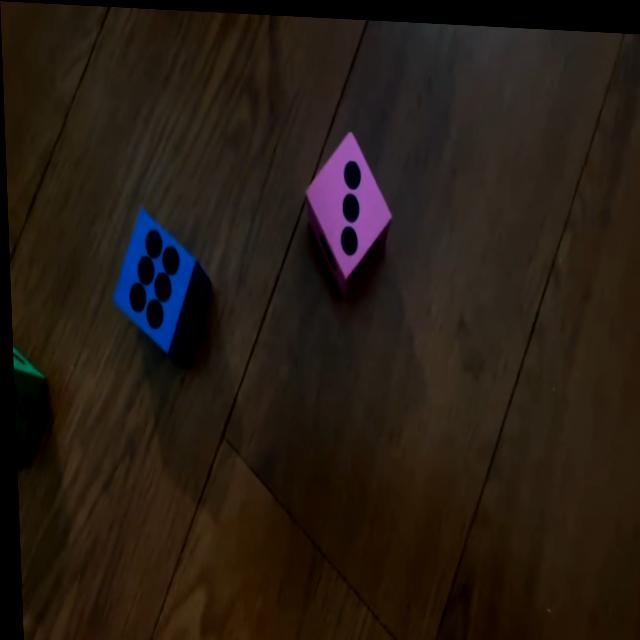cube: (112, 201, 208, 355), (10, 338, 47, 471)
